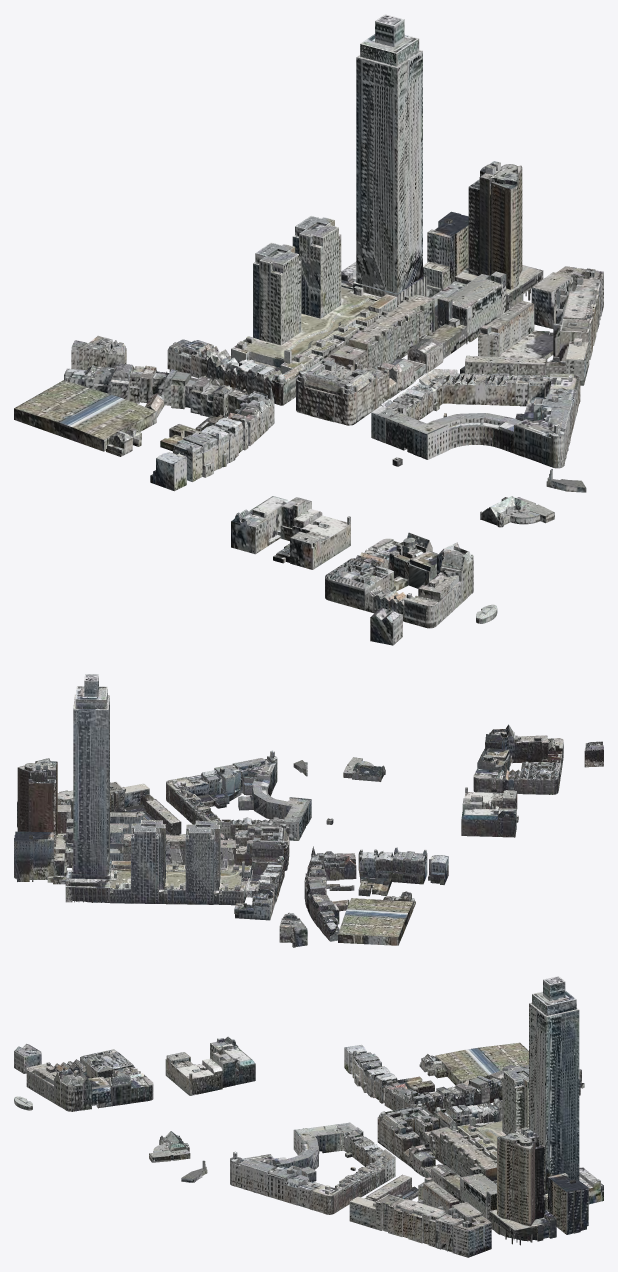
The model's file is rotterdam_veerhaven.glb.
3 views of the same model, one above another, from view 1: azimuth 30°, elevation 25°; view 2: azimuth 150°, elevation 25°; view 3: azimuth 270°, elevation 25° (orthographic). The views are drawn at different scales.
Visible parts, largest first — view 1: CITY_MODEL; view 2: CITY_MODEL; view 3: CITY_MODEL.
Boxes of the visible parts, box(x1,y1,x2,y2) form: CITY_MODEL: box(14, 14, 603, 645); CITY_MODEL: box(14, 674, 603, 947); CITY_MODEL: box(14, 976, 603, 1257).
Size of the model in its own units: 417 by 205 by 498.
Materials: 2 (1 with a texture image).
